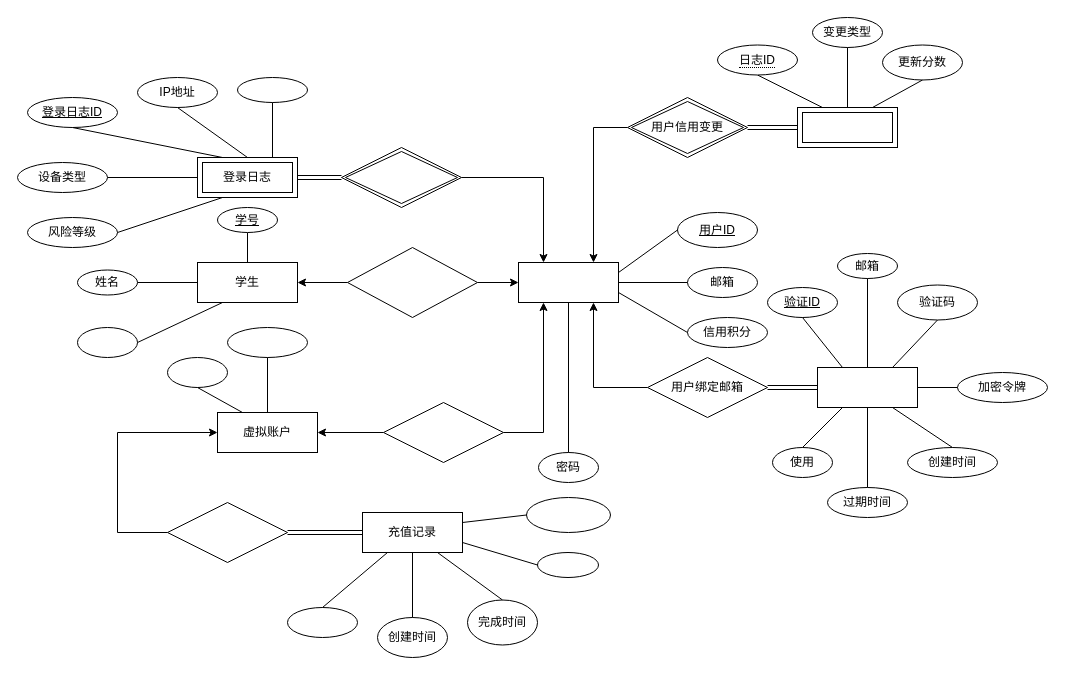
Some shapes in this 1065 by 675 pixel diagram are drawn without their labels. The centre of each missing label's shape, as x and y in pixels:
余额: pixel 197 372
信用变更日志: pixel 847 127
充值记录ID: pixel 568 514
时间: pixel 272 89
状态: pixel 322 622
用户: pixel 568 282
用户创建: pixel 443 432
用户学生信息绑定: pixel 412 282
用户登录: pixel 401 177
账户ID: pixel 267 342
账户充值: pixel 227 532
邮件验证: pixel 867 387
金额: pixel 567 565
院系: pixel 107 342
